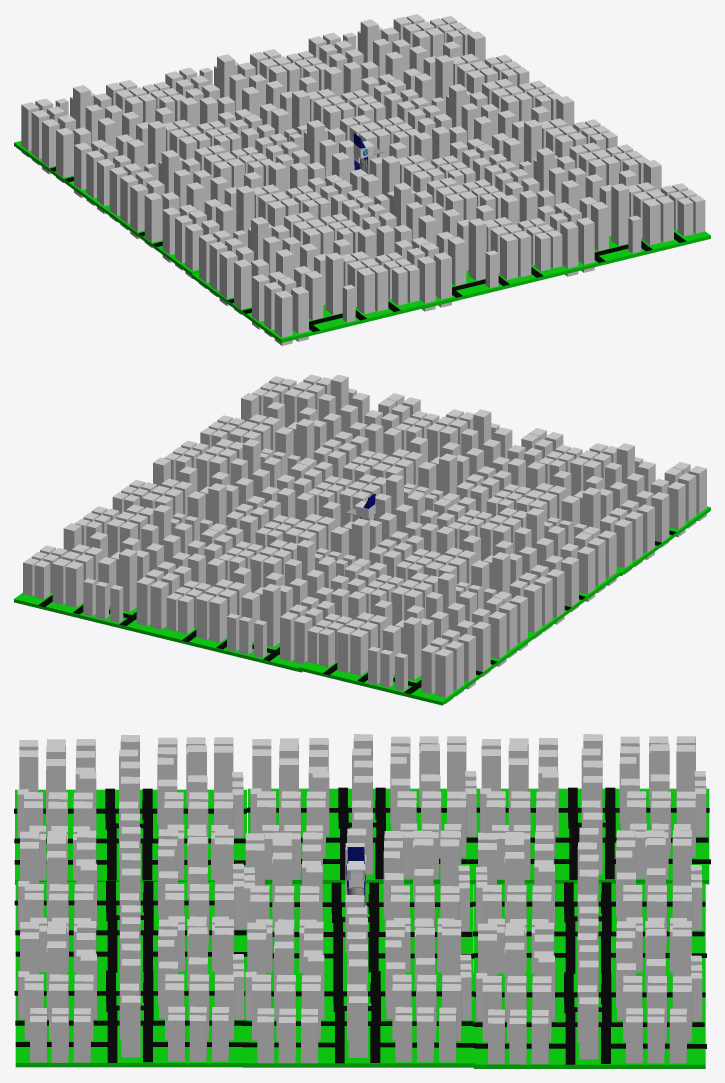
The model's file is BasicNY.fbx.
The picture shows the model from 3 angles, top to bottom: view 1: azimuth 30°, elevation 25°; view 2: azimuth 150°, elevation 25°; view 3: azimuth 270°, elevation 25°; orthographic projection. The views are drawn at different scales.
Visible parts, largest first — view 1: Cube.616, Cube.428, Cube.535, Cube.430, Cube.618, Cube.533, Cube.710, Cube.640, Cube.629, Cube.817, Cube.511, Cube.452 (+53 smaller); view 2: Cube.804, Cube.240, Cube.155, Cube.247, Cube.811, Cube.148, Cube.826, Cube.290, Cube.638, Cube.262, Cube.709, Cube.630 (+53 smaller); view 3: Cube.428, Cube.240, Cube.347, Cube.616, Cube.804, Cube.155, Cube.535, Cube.044, Cube.723, Cube.250, Cube.438, Cube.337 (+113 smaller).
Boxes of the visible parts, x1,y1,x2,y2 form: Cube.616: (192, 272, 425, 342); Cube.428: (562, 229, 710, 273); Cube.535: (419, 264, 568, 308); Cube.430: (611, 183, 629, 245); Cube.618: (325, 252, 343, 314); Cube.533: (468, 218, 486, 280); Cube.710: (144, 192, 162, 247); Cube.640: (274, 290, 292, 345); Cube.629: (234, 259, 251, 314); Cube.817: (56, 127, 73, 182); Cube.511: (417, 256, 435, 311); Cube.452: (560, 221, 578, 276); Cube.804: (298, 636, 531, 705); Cube.240: (14, 592, 166, 637); Cube.155: (158, 627, 302, 672); Cube.247: (119, 548, 137, 612); Cube.811: (403, 617, 421, 680); Cube.148: (262, 584, 280, 646); Cube.826: (435, 648, 453, 703); Cube.290: (65, 561, 83, 607); Cube.638: (614, 519, 632, 574); Cube.262: (150, 580, 168, 629); Cube.709: (577, 546, 595, 601); Cube.630: (667, 482, 685, 537); Cube.428: (15, 971, 247, 1067); Cube.240: (473, 973, 705, 1068); Cube.347: (243, 972, 474, 1067); Cube.616: (15, 789, 246, 884); Cube.804: (477, 788, 709, 884); Cube.155: (473, 883, 705, 973); Cube.535: (15, 882, 247, 972); Cube.044: (265, 884, 473, 972); Cube.723: (248, 788, 477, 883); Cube.250: (579, 997, 598, 1059); Cube.438: (121, 995, 140, 1057); Cube.337: (348, 996, 367, 1058).
Size of the model in its own units: 20757 by 3117 by 22411.
